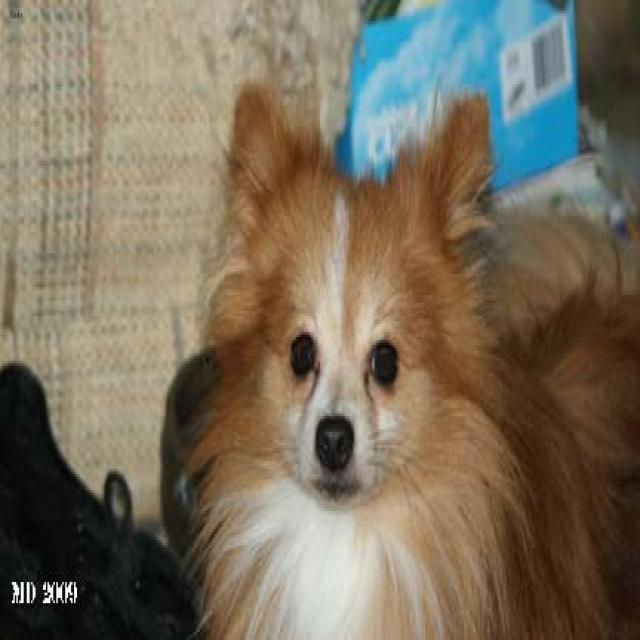dog-pomeranian: (176, 61, 637, 635)
